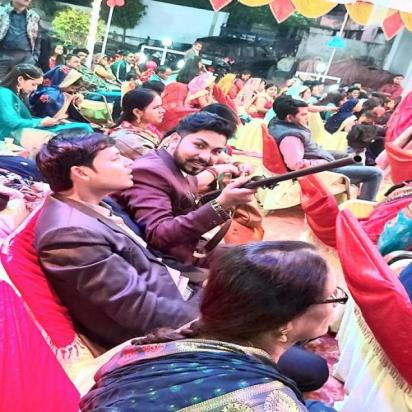Gun: (192, 153, 365, 215)
